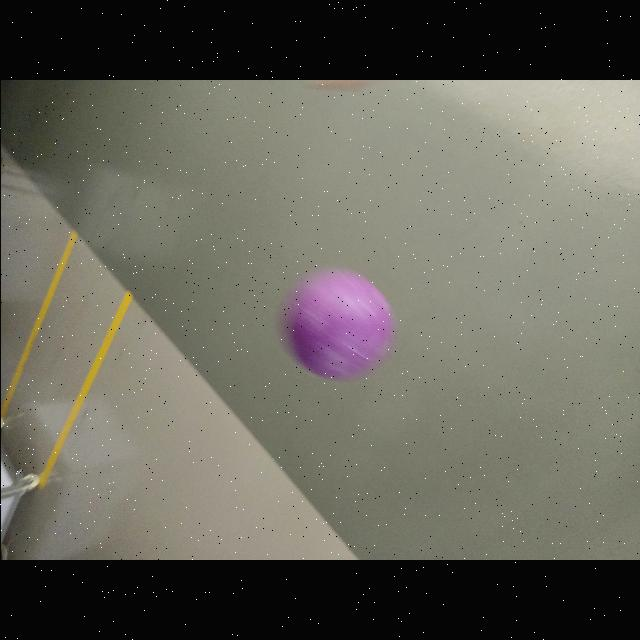P: (277, 266, 393, 382)
